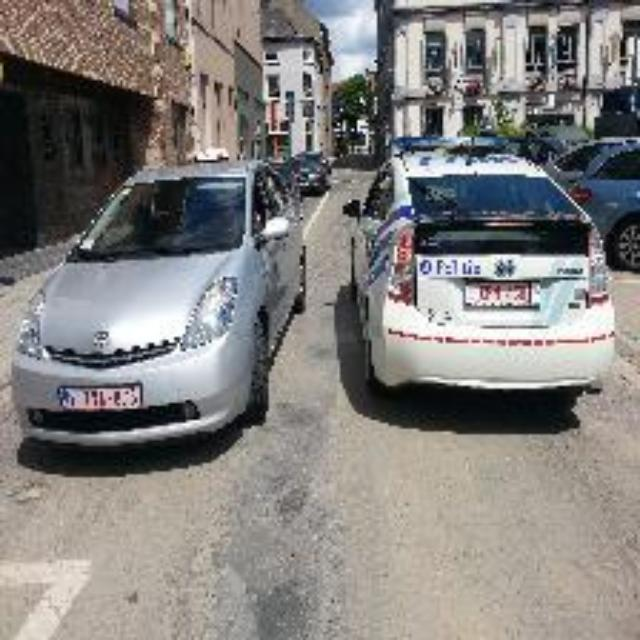emergency: (349, 132, 617, 422)
